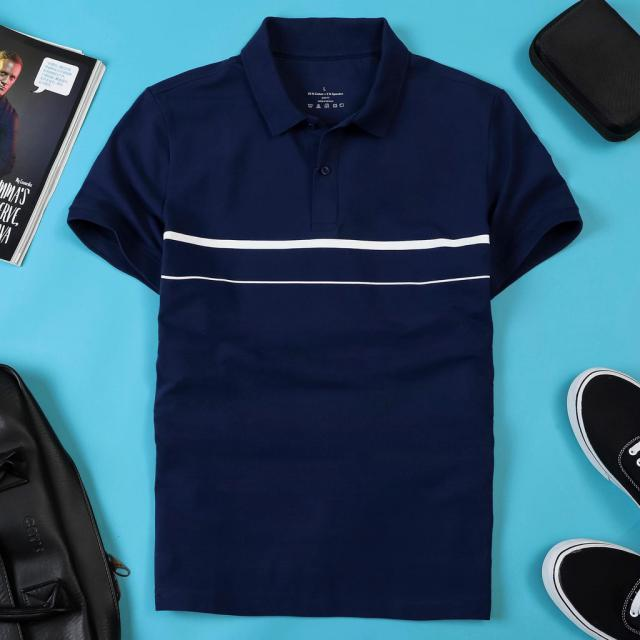Shirt: (72, 24, 579, 612)
